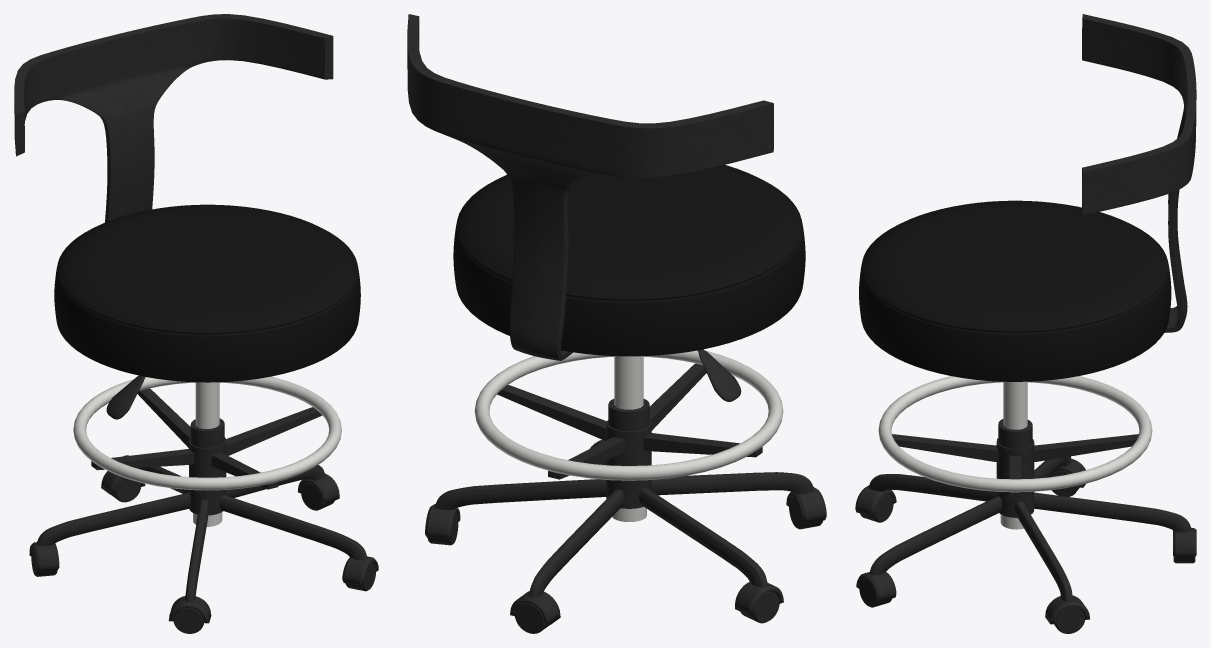
File: chair.glb
3 views of the same model, side by side, from view 1: azimuth 30°, elevation 25°; view 2: azimuth 150°, elevation 25°; view 3: azimuth 270°, elevation 25° (orthographic). The views are drawn at different scales.
Parts seen in each view (by area): view 1: doctor_chair_2; view 2: doctor_chair_2; view 3: doctor_chair_2.
Boxes of the visible parts, x1,y1,x2,y2 form: doctor_chair_2: (14,14,378,633); doctor_chair_2: (407,14,826,633); doctor_chair_2: (855,14,1196,633).
Bounding box in the file's own units: 66.5 × 92 × 60.64.
Materials: 1 (1 with a texture image).
